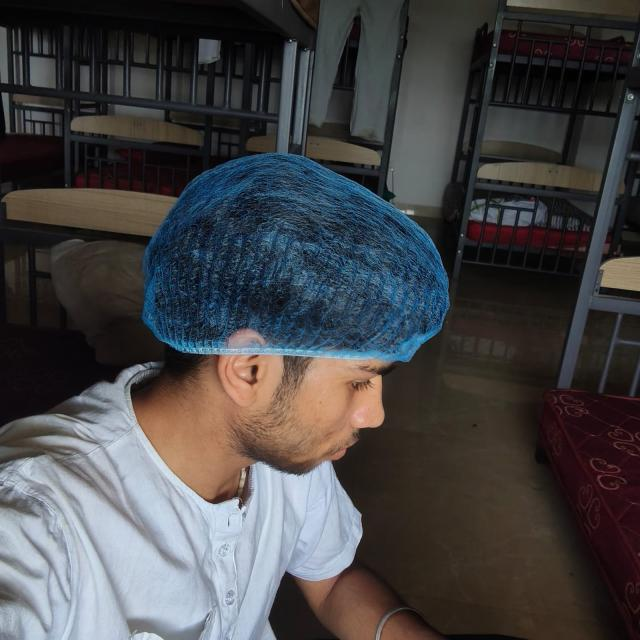hairnet-detection: (142, 154, 448, 361)
